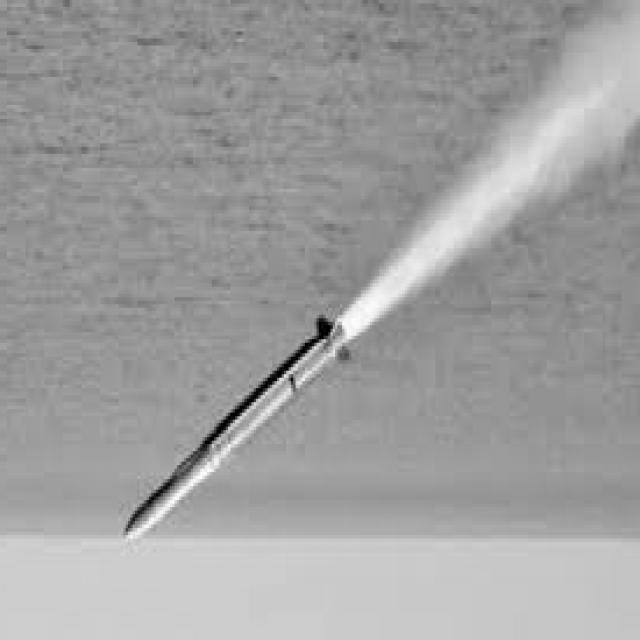missile: (106, 306, 352, 547)
